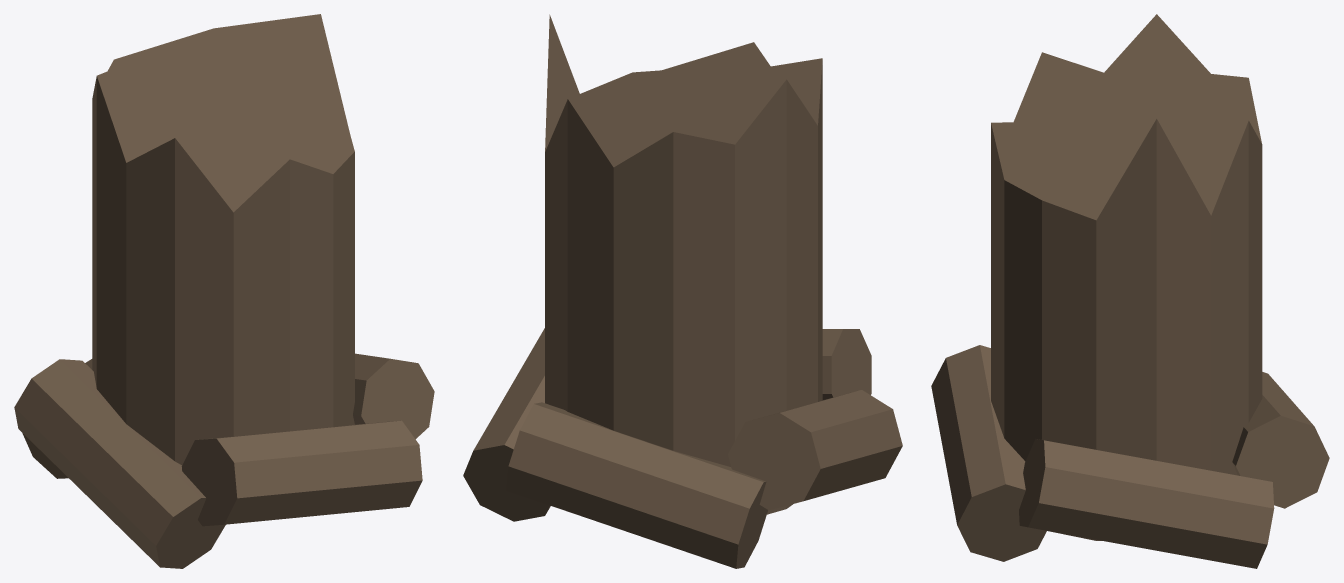
3 renders of one model, left to right at view 1: azimuth 30°, elevation 25°; view 2: azimuth 150°, elevation 25°; view 3: azimuth 270°, elevation 25°, orthographic. The views are drawn at different scales.
Visible parts, largest first — view 1: Stump; view 2: Stump; view 3: Stump.
Part boxes in pixels (box(x1,y1,x2,y2)): Stump: box(14, 14, 434, 568); Stump: box(463, 14, 902, 568); Stump: box(931, 14, 1329, 568).
Bounding box in the file's own units: 160 × 203 × 160.
